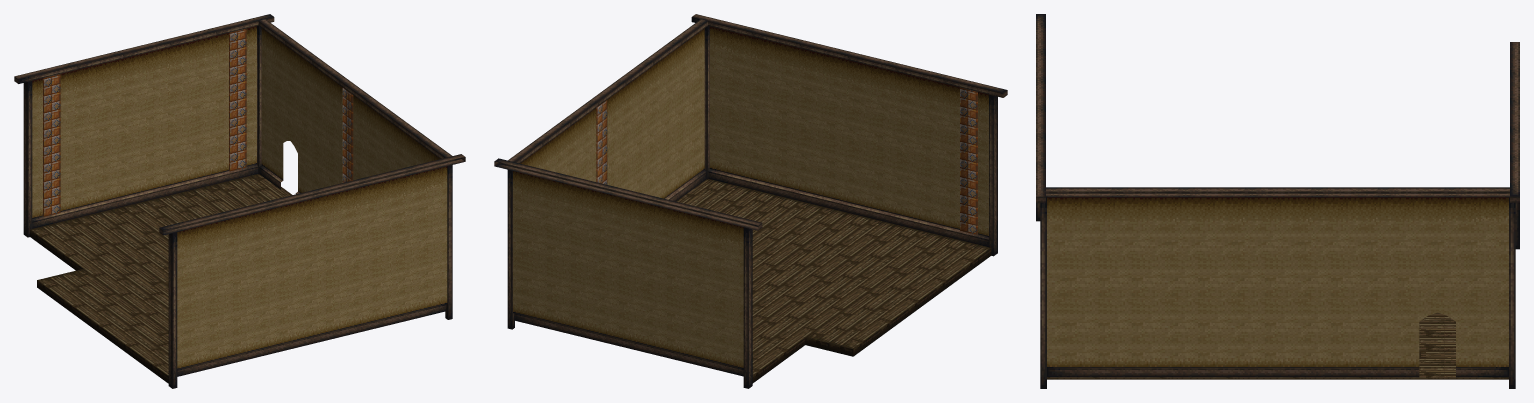
The model's file is EnvBdgMD_Sea_A_Indoor_House_F_Through.FBX.
3 views of the same model, side by side, from view 1: azimuth 30°, elevation 25°; view 2: azimuth 150°, elevation 25°; view 3: azimuth 270°, elevation 25° (orthographic). The views are drawn at different scales.
Parts seen in each view (by area): view 1: EnvBdgMD_Sea_A_Indoor_House_F_Through; view 2: EnvBdgMD_Sea_A_Indoor_House_F_Through; view 3: EnvBdgMD_Sea_A_Indoor_House_F_Through.
Part boxes in pixels (x1,y1,x2,y2): EnvBdgMD_Sea_A_Indoor_House_F_Through: [14, 14, 465, 388]; EnvBdgMD_Sea_A_Indoor_House_F_Through: [494, 14, 1007, 388]; EnvBdgMD_Sea_A_Indoor_House_F_Through: [1036, 14, 1519, 388].
Size of the model in its own units: 1300 by 660 by 1455.
1 material, 1 textured.
